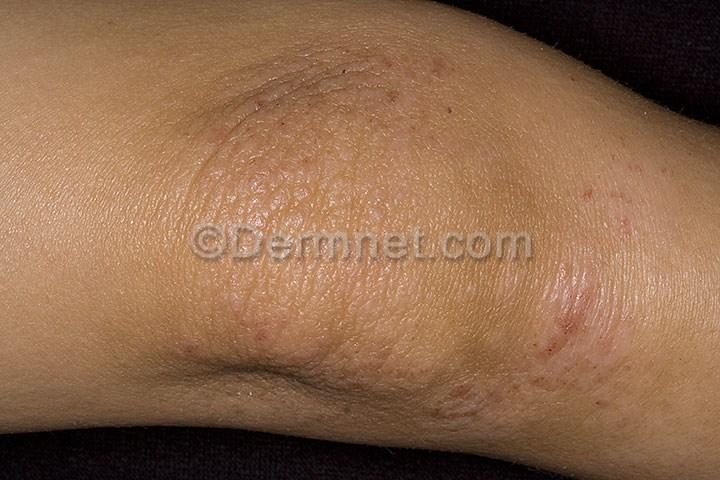excoriacion 1: (424, 252, 632, 441)
